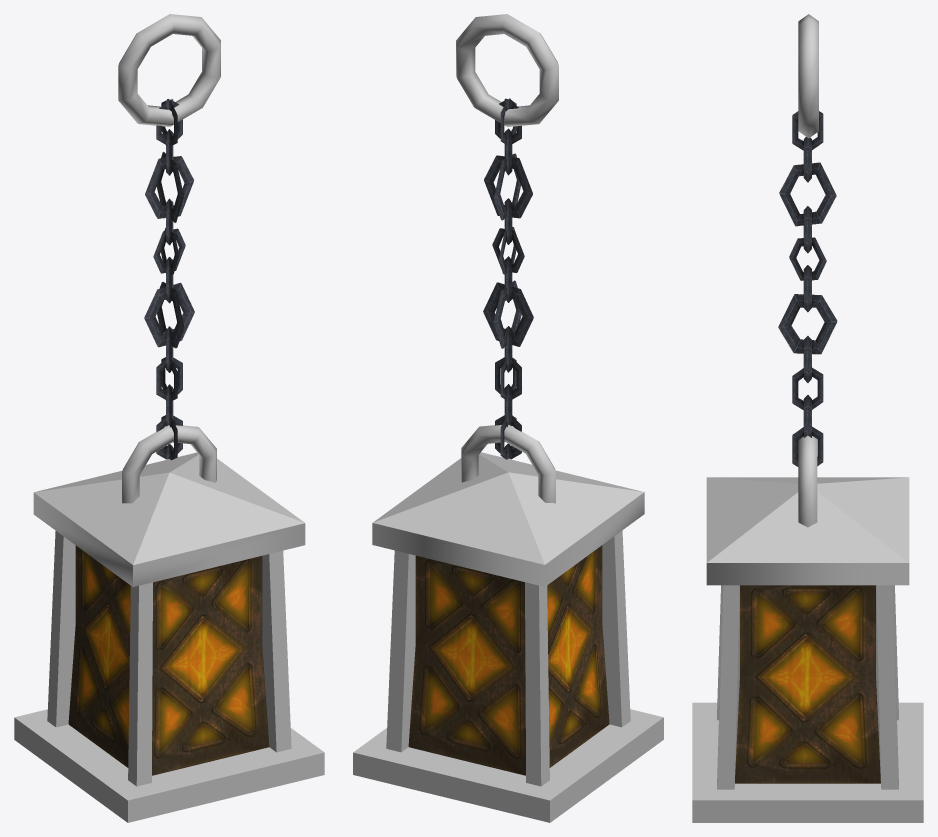
The model's file is Lamp.FBX.
3 renders of one model, left to right at view 1: azimuth 30°, elevation 25°; view 2: azimuth 150°, elevation 25°; view 3: azimuth 270°, elevation 25°, orthographic.
Parts seen in each view (by area): view 1: Object01, Plane03; view 2: Object01, Plane03; view 3: Object01, Plane03.
Part boxes in pixels (left/top/right/bottom): Object01: left=14, top=425, right=324, bottom=822; Plane03: left=118, top=14, right=220, bottom=460; Object01: left=353, top=425, right=663, bottom=822; Plane03: left=456, top=14, right=558, bottom=459; Object01: left=692, top=435, right=923, bottom=822; Plane03: left=778, top=14, right=837, bottom=466.
Bounding box in the file's own units: 17.64 × 63.62 × 17.64.
